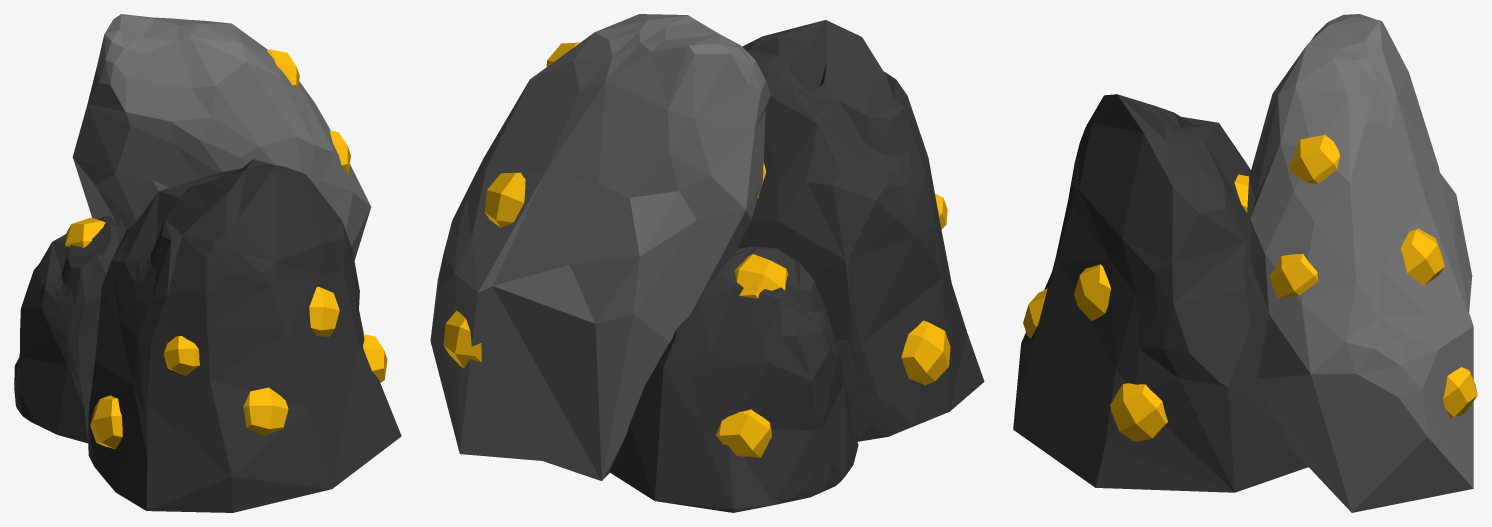
The model's file is winter_stone_gold_1.fbx.
The picture shows the model from 3 angles, left to right: view 1: azimuth 30°, elevation 25°; view 2: azimuth 150°, elevation 25°; view 3: azimuth 270°, elevation 25°; orthographic projection. The views are drawn at different scales.
Visible parts, largest first — view 1: Cube.013; view 2: Cube.013; view 3: Cube.013.
Part boxes in pixels (box(x1,y1,x2,y2)): Cube.013: box(14, 14, 401, 512); Cube.013: box(430, 14, 984, 512); Cube.013: box(1013, 14, 1477, 512).
Bounding box in the file's own units: 61.48 × 63.38 × 67.1.
